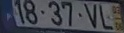1: (13, 0, 25, 23)
3: (47, 1, 63, 26)
7: (60, 1, 73, 27)
8: (22, 0, 38, 24)
L: (98, 4, 114, 30)
V: (83, 3, 97, 29)
